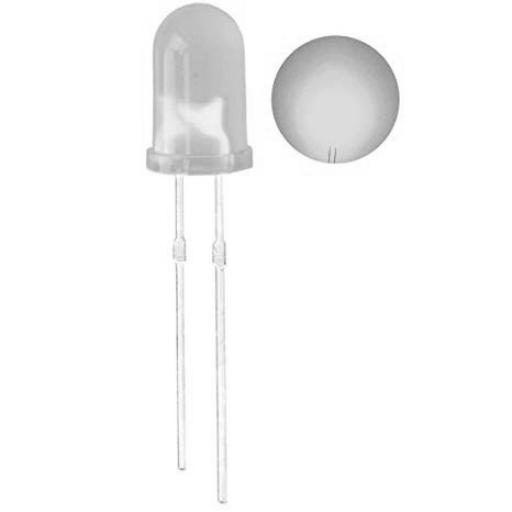LED: (115, 2, 259, 509)
